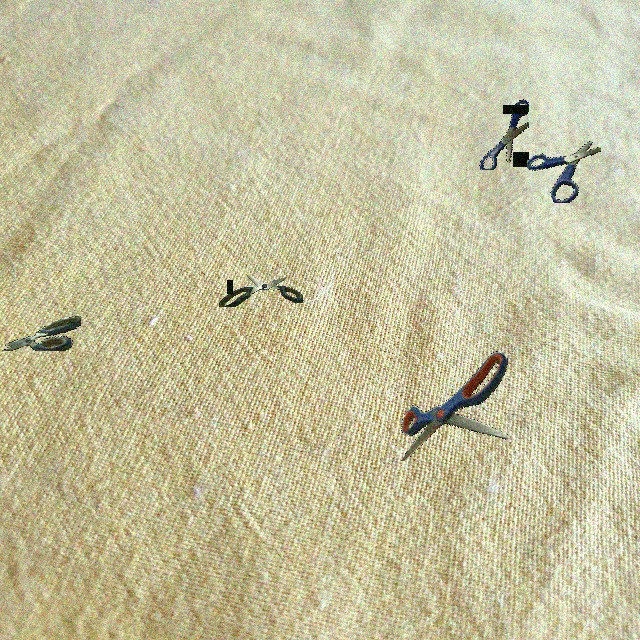scissors: (401, 351, 508, 461), (527, 141, 601, 203), (479, 99, 529, 170), (2, 316, 81, 351), (219, 275, 303, 307)
